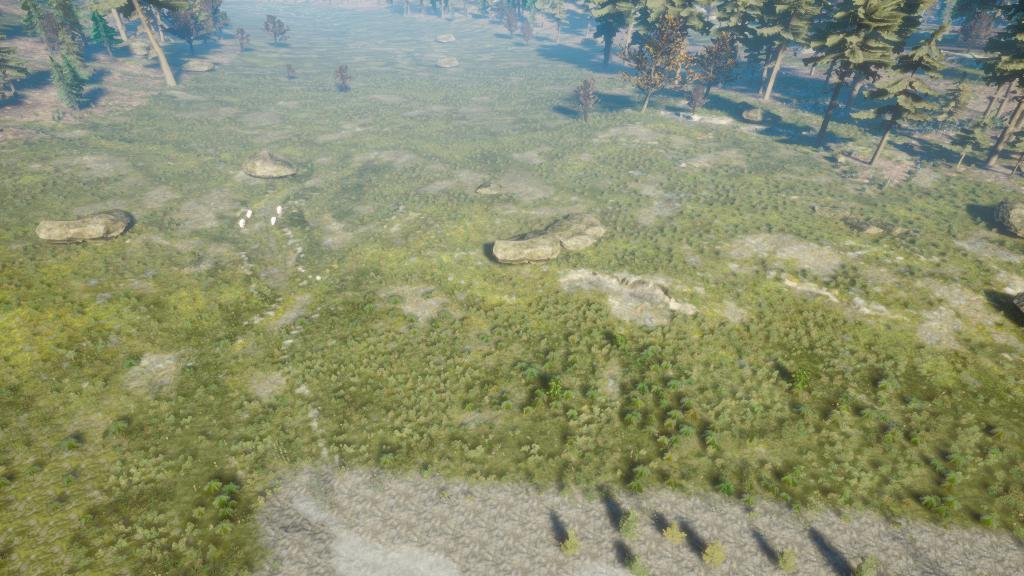pig: (234, 202, 263, 218), (263, 199, 289, 216), (265, 212, 284, 230), (233, 214, 249, 235)
